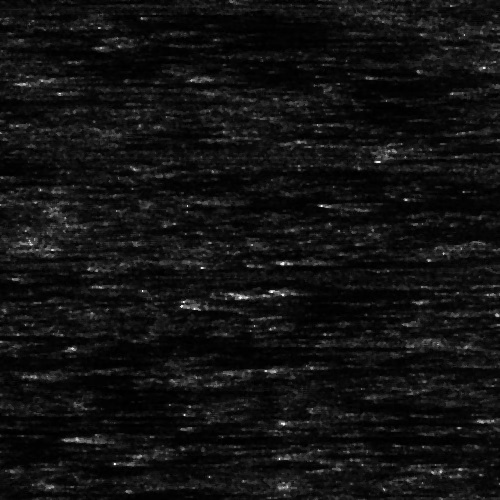rock: (160, 360, 369, 377), (0, 63, 94, 96), (87, 37, 160, 54), (213, 288, 306, 299), (39, 433, 144, 442), (320, 198, 393, 207), (277, 256, 350, 261), (287, 419, 318, 424)
shadow: (32, 63, 500, 96), (265, 360, 500, 377), (92, 433, 492, 442), (260, 288, 469, 299), (124, 37, 255, 54), (357, 198, 500, 207), (0, 425, 110, 432), (303, 419, 446, 424), (314, 256, 452, 261), (0, 414, 139, 417), (0, 253, 58, 256)
